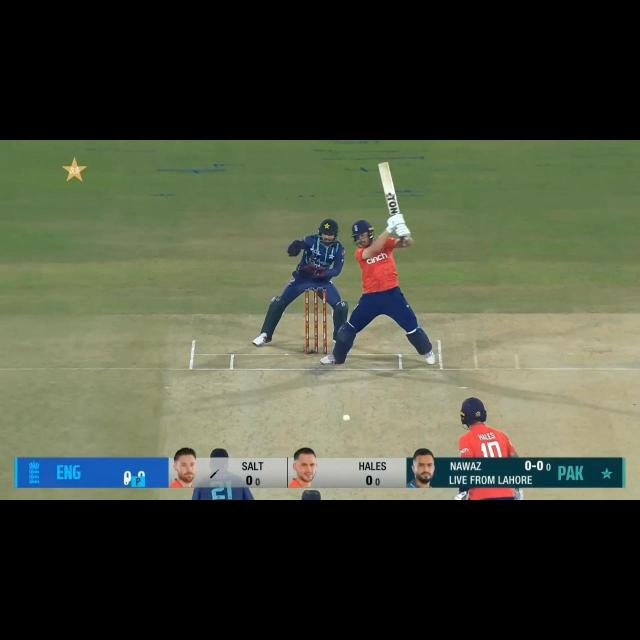bat: (378, 164, 400, 214)
toe: (376, 161, 391, 171)
